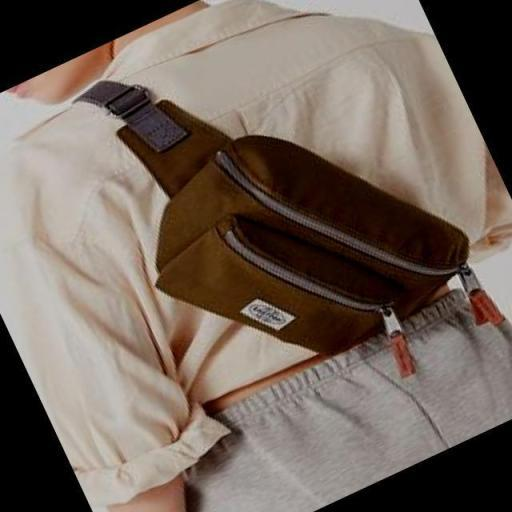bag: (117, 115, 479, 368)
